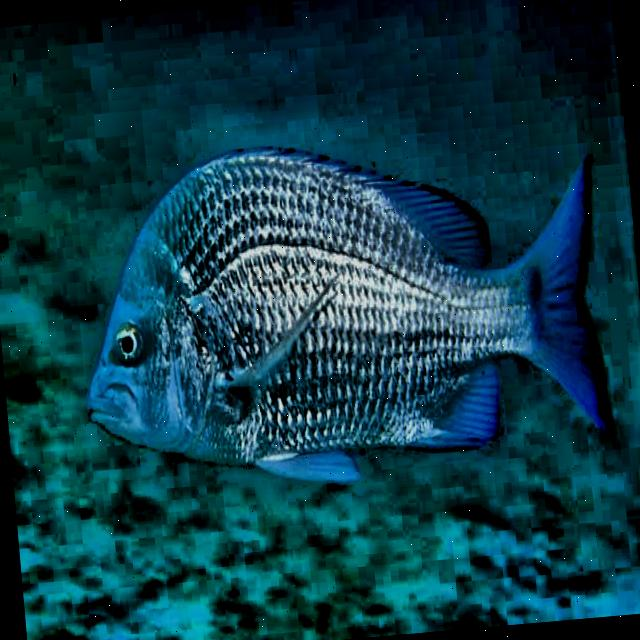fish: (62, 110, 622, 514)
